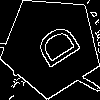D: (26, 21, 83, 76)
